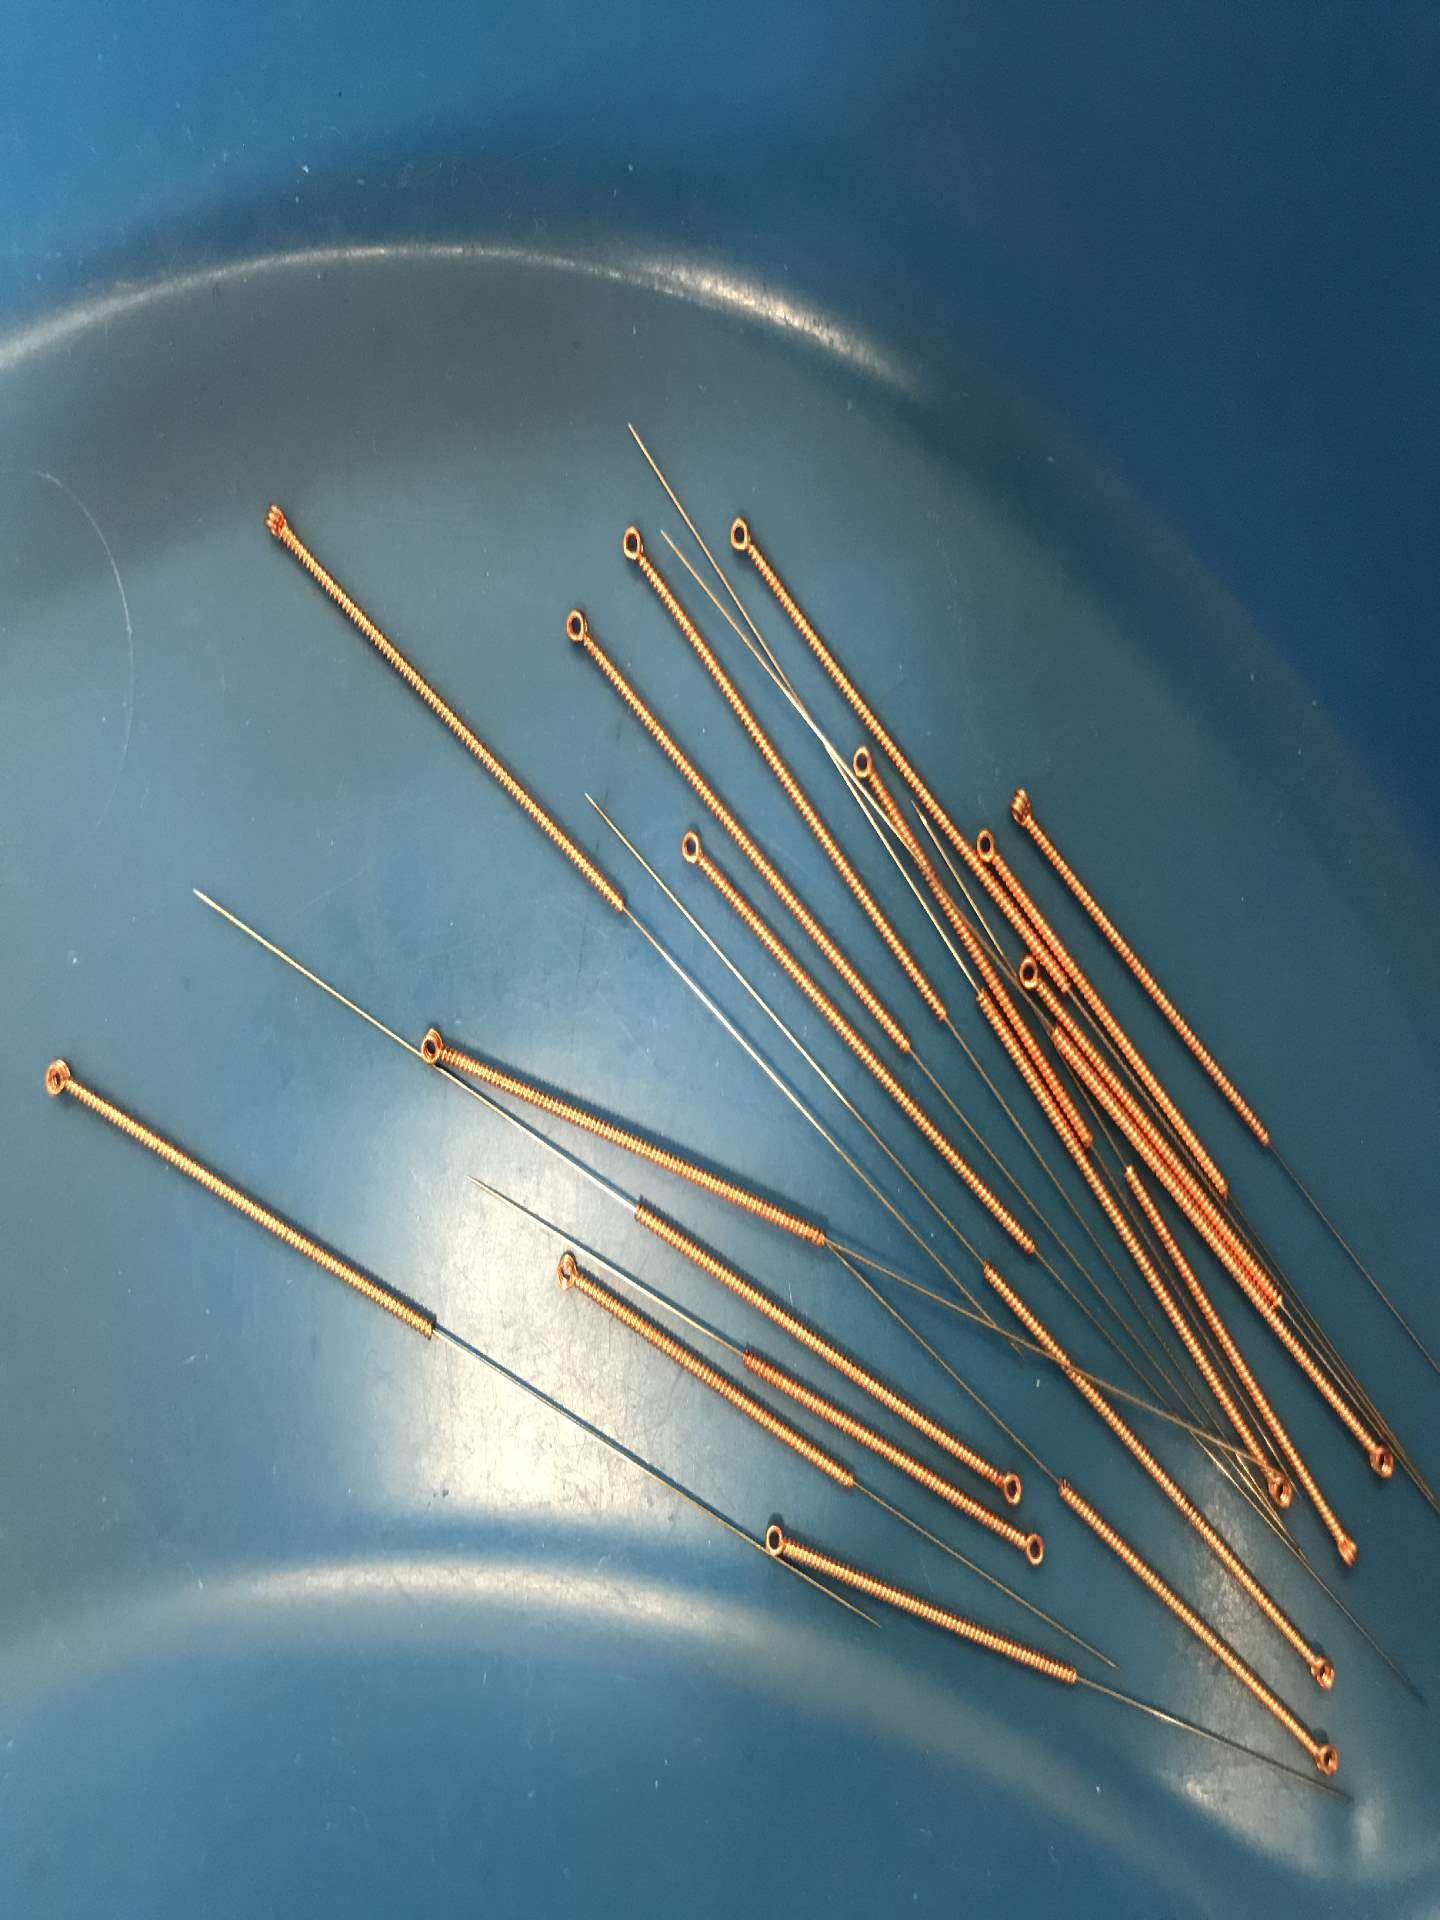needle: (253, 490, 306, 559), (29, 1051, 89, 1108), (549, 599, 604, 661), (407, 1016, 458, 1075), (607, 516, 656, 576), (715, 503, 762, 565), (1000, 780, 1047, 836), (1302, 1733, 1346, 1787), (1324, 1522, 1367, 1575), (1007, 1525, 1056, 1572), (1358, 1429, 1398, 1486), (670, 825, 714, 875), (1301, 1646, 1342, 1696), (991, 1462, 1030, 1513), (551, 1246, 585, 1299), (1258, 1466, 1296, 1513), (756, 1518, 794, 1565), (846, 742, 880, 788), (974, 821, 1003, 866), (1013, 952, 1044, 995)
